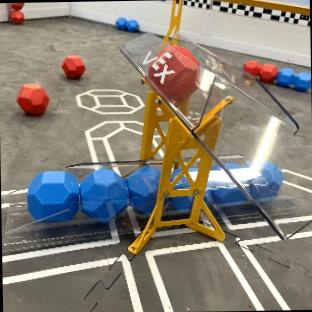Goal: (120, 31, 312, 252)
V5_BLUE: (27, 171, 78, 220), (80, 168, 127, 220), (127, 165, 160, 211), (276, 68, 310, 90), (115, 17, 138, 31)
V5_RED: (148, 44, 197, 100), (17, 83, 48, 114), (62, 55, 84, 77), (10, 2, 24, 23), (259, 64, 277, 80), (244, 61, 259, 73)
